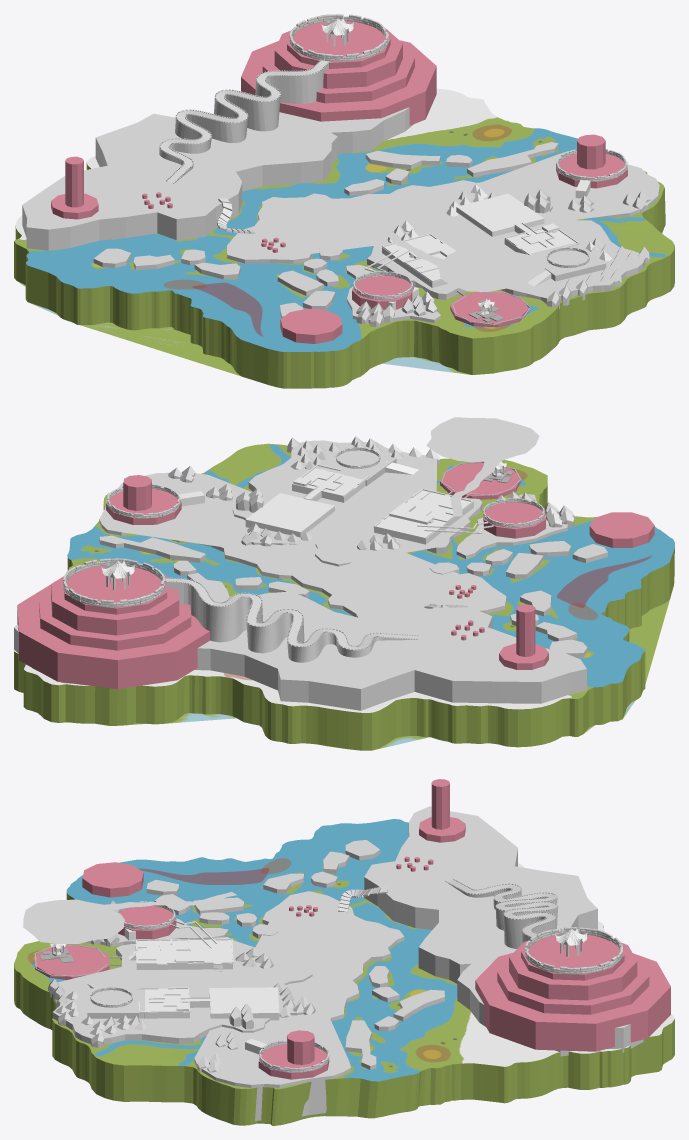
The model's file is muralla_v2_lls1011v3 (3).fbx.
3 views of the same model, one above another, from view 1: azimuth 30°, elevation 25°; view 2: azimuth 150°, elevation 25°; view 3: azimuth 270°, elevation 25° (orthographic). The views are drawn at different scales.
Visible parts, largest first — view 1: Cube, Plane.002, Plane.001, Plane.004, Plane, Cube.064, Cylinder.013, Cube.026, Cylinder.009, Cylinder.011, floor_thick.002, Cylinder.012 (+14 smaller); view 2: Cube, Plane.002, Plane.001, Plane, Cylinder.013, Plane.004, Cube.064, Cube.026, Cylinder.011, Cylinder.009, Cylinder.012, floor_thick.002 (+14 smaller); view 3: Cube, Plane.002, Plane.001, Plane, Cylinder.013, Plane.004, Cube.026, Cube.064, Cylinder.011, Cylinder.009, Cylinder.012, floor_thick__5_ (+13 smaller).
Boxes of the visible parts, box(x1,y1,x2,y2) form: Cube: box(14, 88, 674, 388); Plane.002: box(22, 107, 413, 250); Plane.001: box(227, 150, 659, 263); Plane.004: box(93, 142, 558, 318); Plane: box(367, 192, 645, 303); Cube.064: box(159, 59, 330, 183); Cylinder.013: box(241, 40, 436, 125); Cube.026: box(347, 221, 546, 291); Cylinder.009: box(287, 21, 390, 68); Cylinder.011: box(274, 28, 402, 88); floor_thick.002: box(456, 193, 544, 236); Cylinder.012: box(262, 44, 414, 103); Cube: box(14, 443, 674, 750); Plane.002: box(14, 591, 586, 710); Plane.001: box(99, 472, 506, 618); Plane: box(232, 440, 482, 566); Cylinder.013: box(17, 584, 210, 689); Plane.004: box(99, 535, 607, 657); Cube.064: box(165, 577, 418, 662); Cube.026: box(426, 417, 539, 516); Cylinder.011: box(51, 575, 179, 635); Cylinder.009: box(64, 566, 167, 614); Cylinder.012: box(39, 591, 191, 650); floor_thick.002: box(245, 493, 334, 537); Cube: box(14, 819, 674, 1125); Plane.002: box(364, 806, 643, 1056); Plane.001: box(194, 891, 404, 1120); Plane: box(52, 937, 312, 1044); Cylinder.013: box(475, 953, 670, 1051); Plane.004: box(146, 840, 444, 1069); Cube.026: box(23, 892, 236, 943); Cube.064: box(445, 879, 558, 948); Cylinder.011: box(509, 941, 637, 1000); Cylinder.009: box(521, 934, 624, 980); Cylinder.012: box(497, 956, 649, 1014); floor_thick__5_: box(135, 939, 232, 969).
Size of the model in its own units: 242839 by 50375 by 250052.
